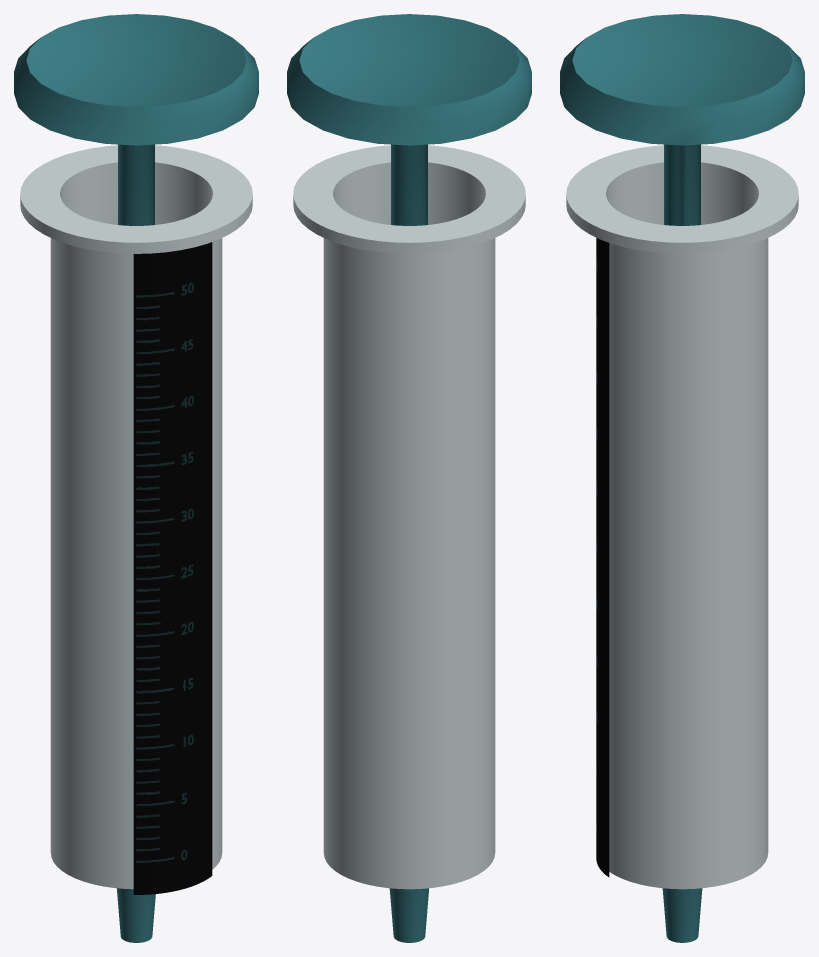
File: VLAB_gas_syringe.fbx
The picture shows the model from 3 angles, left to right: view 1: azimuth 30°, elevation 25°; view 2: azimuth 150°, elevation 25°; view 3: azimuth 270°, elevation 25°; orthographic projection.
Visible parts, largest first — view 1: VLAB_gas_syringe_Barrel_VIS, VLAB_gas_syringe_Scale_VIS, VLAB_gas_syringe_Plunger_VIS, VLAB_gas_syringe_Tip_VIS; view 2: VLAB_gas_syringe_Barrel_VIS, VLAB_gas_syringe_Plunger_VIS, VLAB_gas_syringe_Tip_VIS; view 3: VLAB_gas_syringe_Barrel_VIS, VLAB_gas_syringe_Plunger_VIS, VLAB_gas_syringe_Scale_VIS, VLAB_gas_syringe_Tip_VIS.
Part boxes in pixels (x1,y1,x2,y2): VLAB_gas_syringe_Barrel_VIS: (20,145,252,889); VLAB_gas_syringe_Scale_VIS: (133,242,212,894); VLAB_gas_syringe_Plunger_VIS: (14,14,258,225); VLAB_gas_syringe_Tip_VIS: (117,888,155,942); VLAB_gas_syringe_Barrel_VIS: (293,145,525,889); VLAB_gas_syringe_Plunger_VIS: (287,14,531,225); VLAB_gas_syringe_Tip_VIS: (389,888,428,942); VLAB_gas_syringe_Barrel_VIS: (566,145,798,889); VLAB_gas_syringe_Plunger_VIS: (560,14,804,225); VLAB_gas_syringe_Scale_VIS: (596,238,609,877); VLAB_gas_syringe_Tip_VIS: (662,888,702,942).
Size of the model in its own units: 0.04 by 0.1579 by 0.04.
